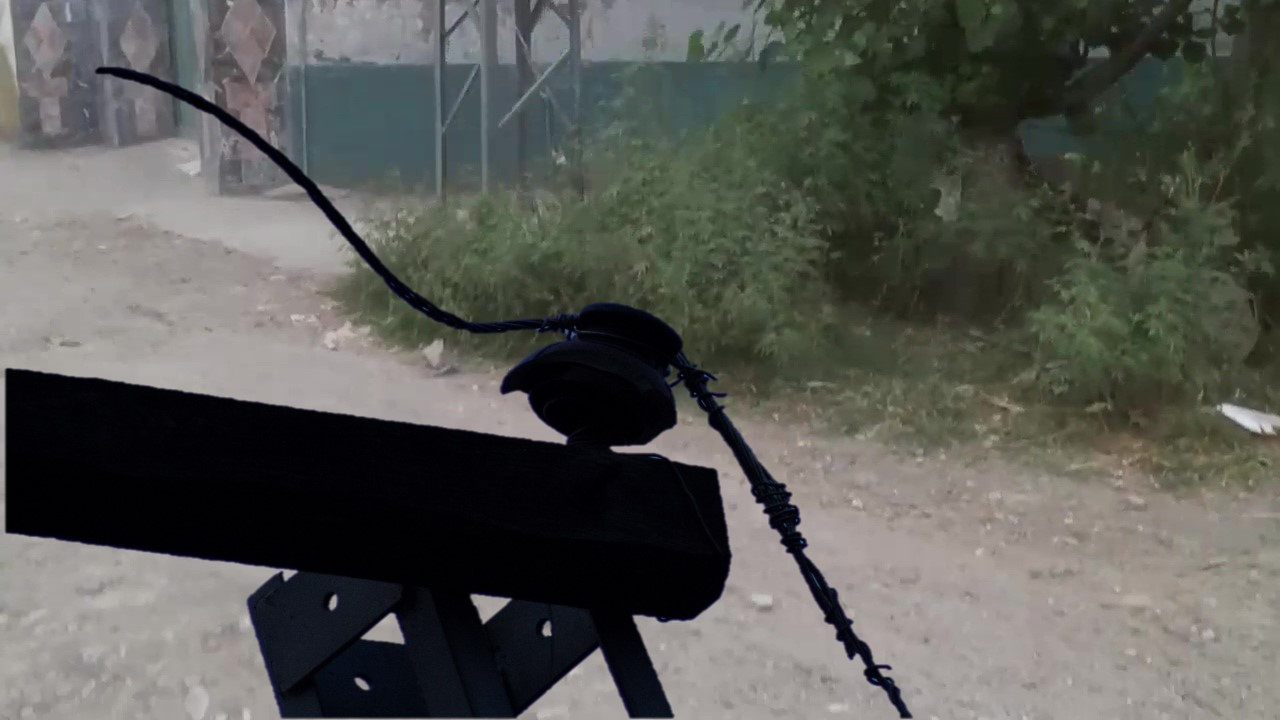defect_pin: (497, 299, 692, 452)
